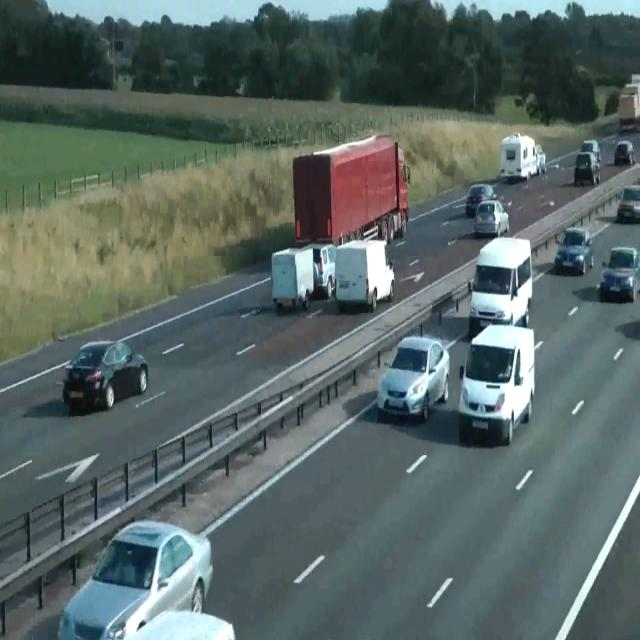bus: (57, 518, 213, 639), (62, 338, 148, 412), (376, 335, 450, 421), (129, 610, 235, 639), (600, 245, 640, 302), (554, 226, 594, 276), (473, 198, 509, 238), (466, 182, 498, 218), (617, 185, 639, 221), (614, 140, 636, 166), (580, 138, 602, 162), (535, 144, 546, 174), (514, 95, 522, 107)
jeep: (458, 323, 535, 445), (574, 150, 600, 186)
minibus: (292, 134, 410, 246), (468, 235, 532, 337), (335, 238, 395, 312), (271, 246, 315, 311), (500, 132, 542, 182), (302, 242, 336, 298), (618, 73, 640, 132)
